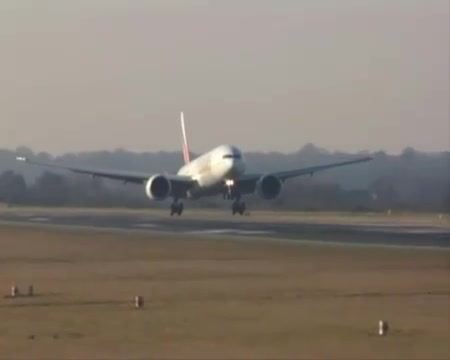aeroplane: (18, 112, 375, 219)
